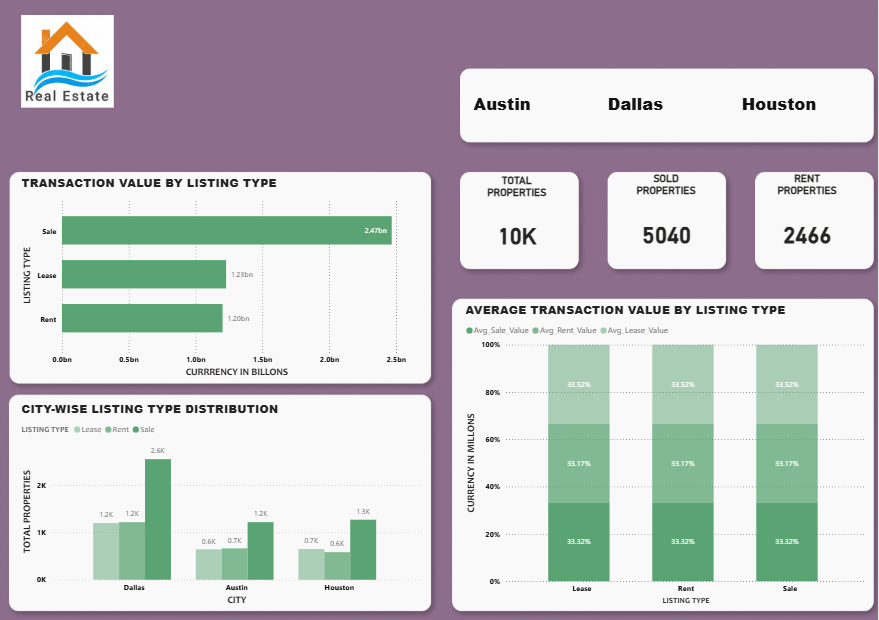

What the dashboard file says about the page in this screenshot:
{"tool":"powerbi","page":{"name":"SALES AND LISTING TYPE","canvas":[1440,1024],"ordinal":5},"visuals":[{"type":"hundredPercentStackedColumnChart","title":"AVERAGE TRANSACTION VALUE BY LISTING TYPE","fields":{"Category":["Properties.ListingType"],"Y":["Measure_Table.Avg_Sale_Value","Measure_Table.Avg_Rent_Value","Measure_Table.Avg_Lease_Value"]},"box":[762.5,495,660,497.5],"z":0},{"type":"clusteredBarChart","title":"TRANSACTION VALUE BY LISTING TYPE","fields":{"Category":["Properties.ListingType"],"Y":["Measure_Table.Total_Listing_Value"]},"box":[42.5,287.5,660,335],"z":1000},{"type":"card","title":"TOTAL PROPERTIES","fields":{"Values":["Measure_Table.Total_Properties"]},"box":[782.5,287.5,137.5,157.5],"z":2000},{"type":"clusteredColumnChart","title":"CITY-WISE LISTING TYPE DISTRIBUTION","fields":{"Category":["Properties.City"],"Y":["Measure_Table.Total_Properties"],"Series":["Properties.ListingType"]},"box":[42.5,655,660,337.5],"z":3000},{"type":"card","title":"SOLD PROPERTIES","fields":{"Values":["Measure_Table.Sold_Properties"]},"box":[1025,285,140,157.5],"z":4000},{"type":"card","title":"RENT PROPERTIES","fields":{"Values":["Measure_Table.Rent_Properties"]},"box":[1250,285,145,157.5],"z":5000},{"type":"advancedSlicerVisual","fields":{"Values":["Properties.City"]},"box":[762.5,117.5,660,110],"z":6000},{"type":"image","box":[25.1,29.6,193.7,150.4],"z":7000}]}

Visuals, with their boxes in screenshot pixels (x1, y1, x2, y2), scaled from the page's 1440x1024 canvas onto the 879x620 screenshot:
"AVERAGE TRANSACTION VALUE BY LISTING TYPE" hundredPercentStackedColumnChart: 465,300,868,601
"TRANSACTION VALUE BY LISTING TYPE" clusteredBarChart: 26,174,429,377
"TOTAL PROPERTIES" card: 478,174,562,269
"CITY-WISE LISTING TYPE DISTRIBUTION" clusteredColumnChart: 26,397,429,601
"SOLD PROPERTIES" card: 626,173,711,268
"RENT PROPERTIES" card: 763,173,852,268
advancedSlicerVisual - Properties.City: 465,71,868,138
image: 15,18,134,109
